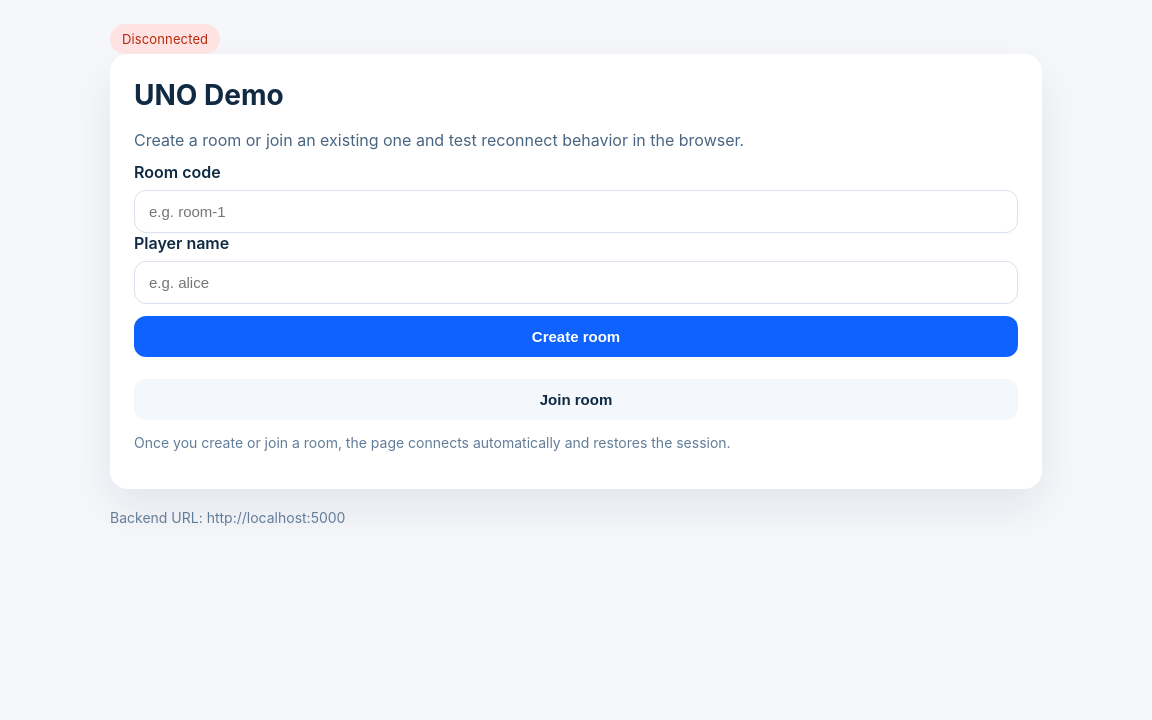
Scenario: frontend contract and recovery flow › shows last player remaining message when opponent leaves
The image size is (1152, 720).
Type "room-1" into the field with placeholder "e.g. room-1" at (576, 212), box [134,190,1018,233]
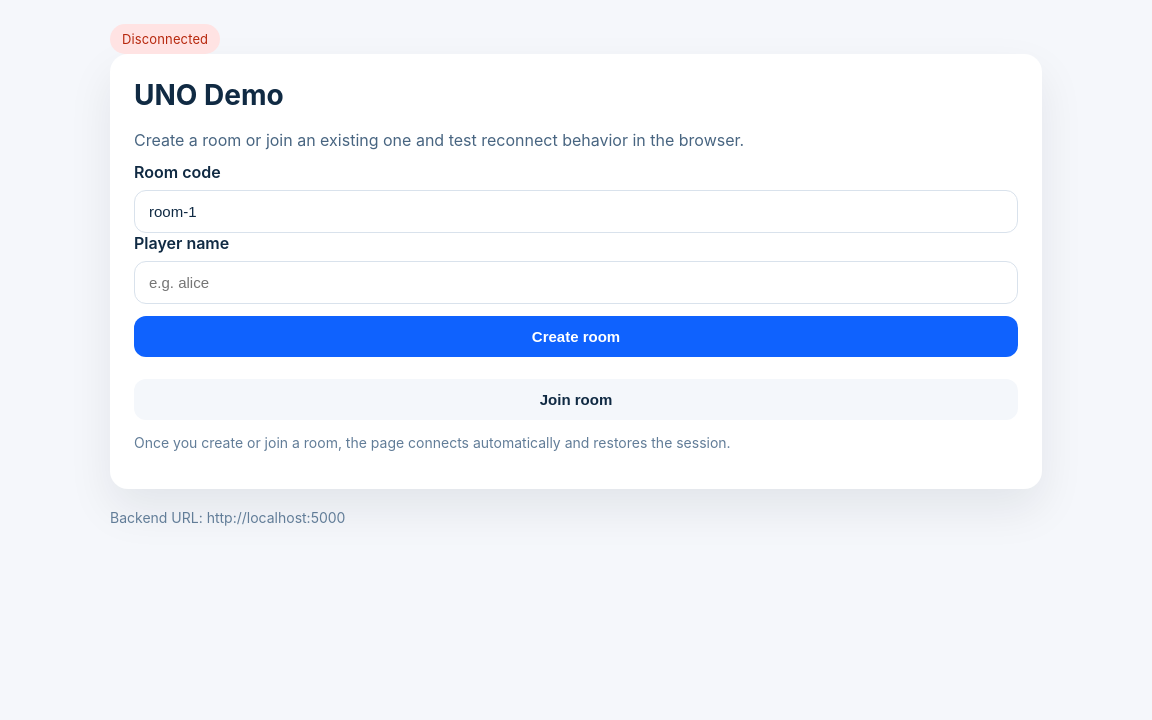
Type "Alice" into the field with placeholder "e.g. alice" at (576, 282), box [134,261,1018,304]
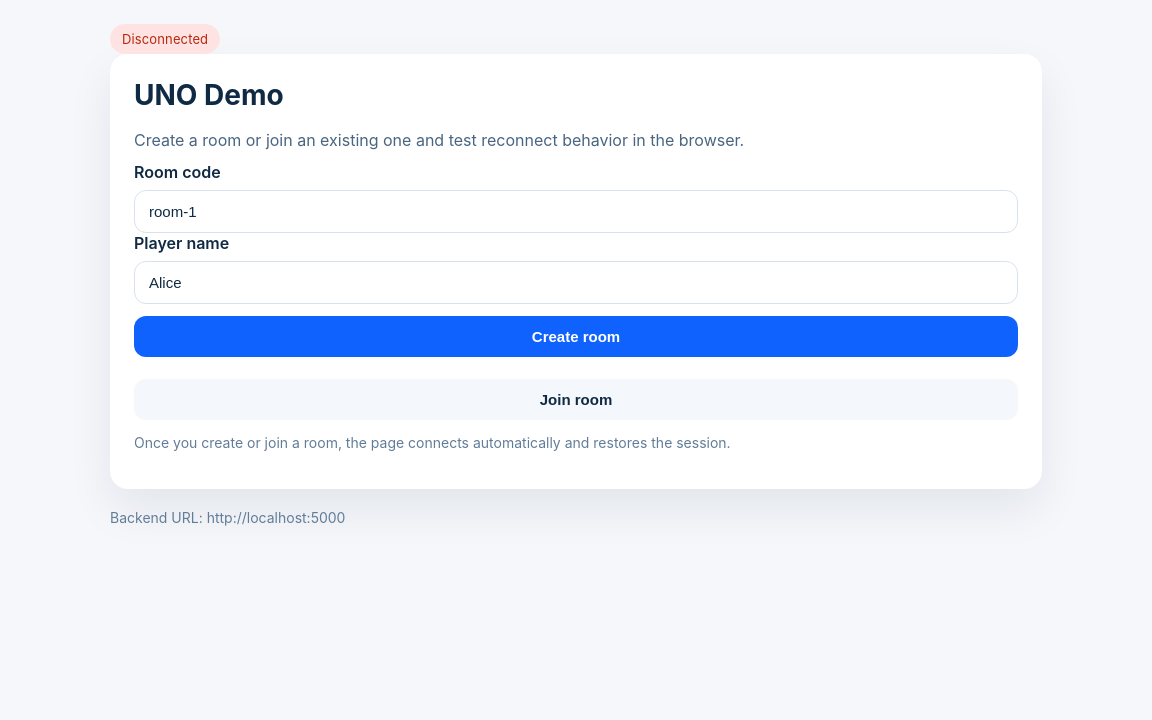
Click the button "Create room" at (576, 336), box [134,316,1018,357]
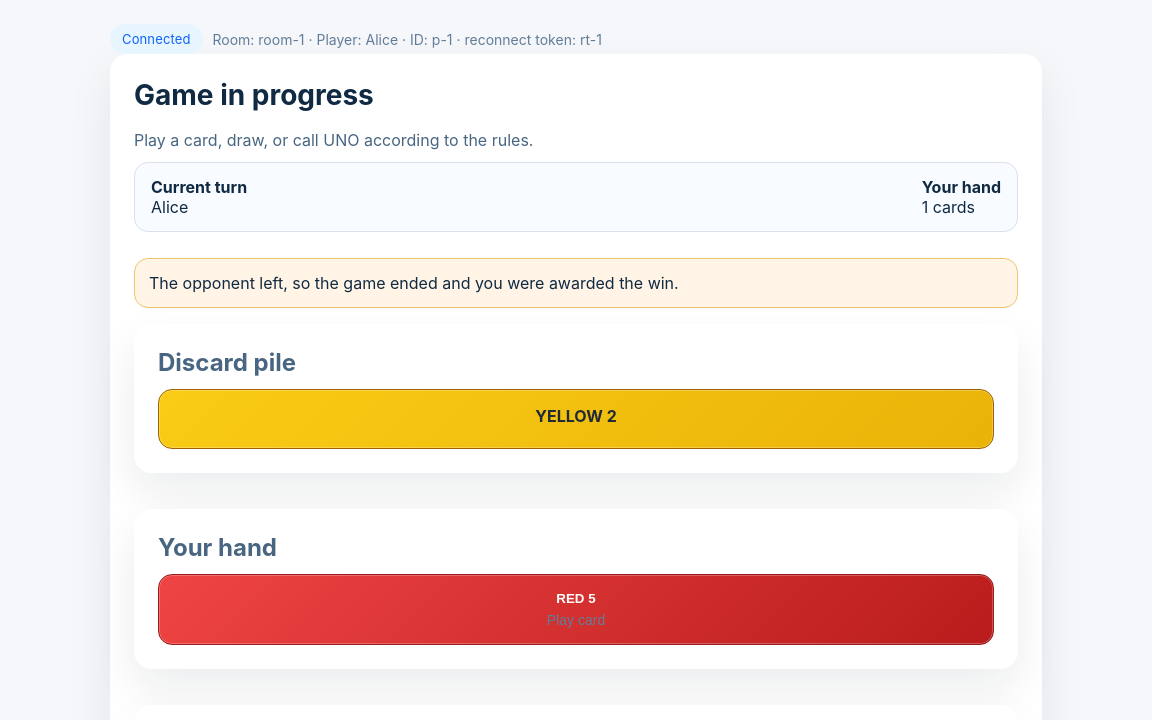
Expected: the heading "Game in progress" is shown, [134,78,374,112]
Expected: the text "The opponent left, so the game ended and you were awarded the win." is shown, [134,258,1018,308]
